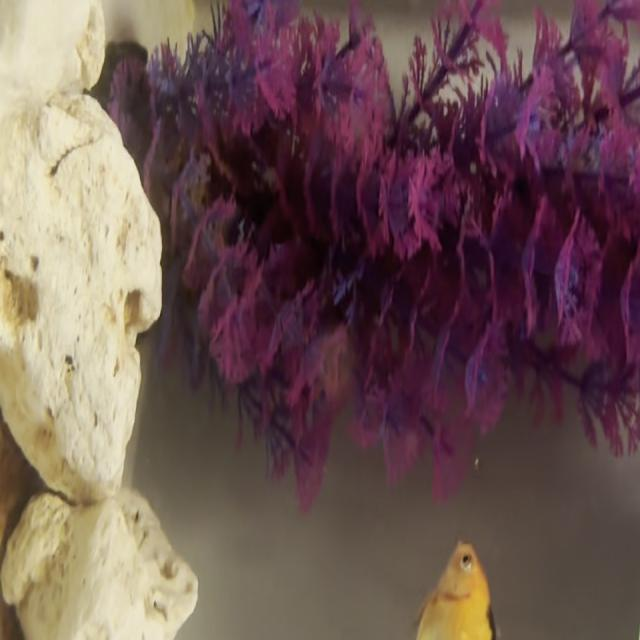fish: (387, 539, 522, 640)
